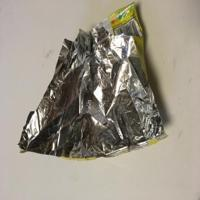plastic: (17, 2, 169, 160)
